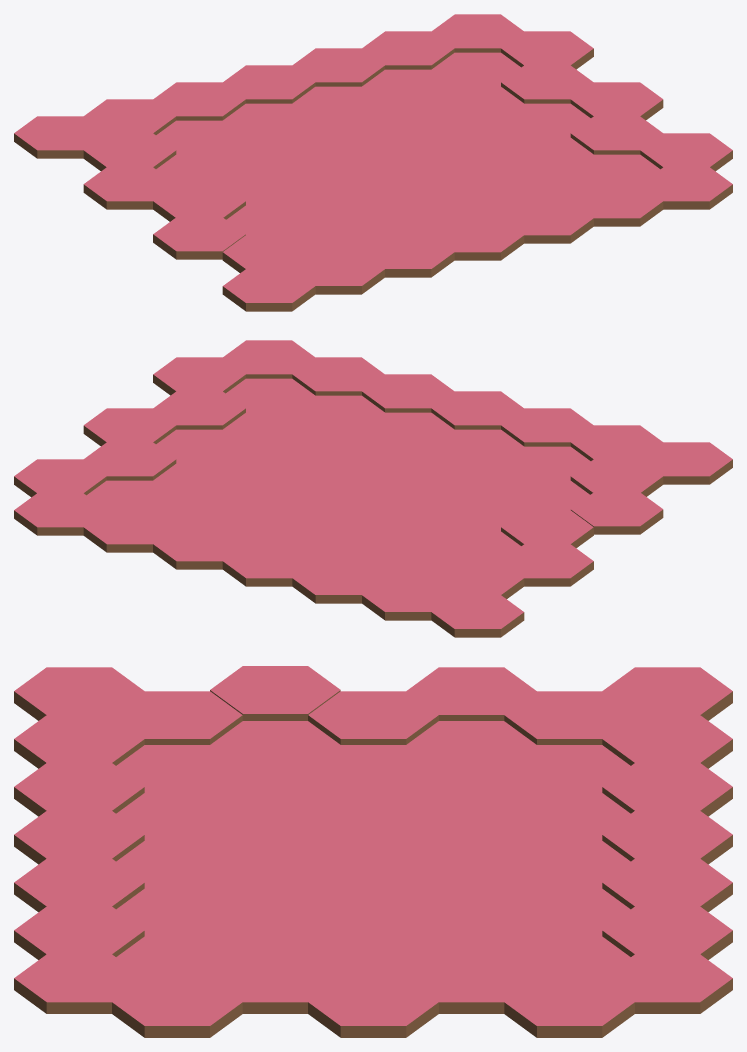
Rendered from Board.fbx.
The picture shows the model from 3 angles, top to bottom: view 1: azimuth 30°, elevation 25°; view 2: azimuth 150°, elevation 25°; view 3: azimuth 270°, elevation 25°; orthographic projection. The views are drawn at different scales.
Visible parts, largest first — view 1: Cylinder, Cylinder.003, Cylinder.022, Cylinder.001, Cylinder.007, Cylinder.020, Cylinder.021, Cylinder.023, Cylinder.005, Cylinder.019, Cylinder.017, Cylinder.011 (+37 smaller); view 2: Cylinder.007, Cylinder.003, Cylinder.010, Cylinder.005, Cylinder.008, Cylinder, Cylinder.009, Cylinder.011, Cylinder.012, Cylinder.013, Cylinder.015, Cylinder.017 (+37 smaller); view 3: Cylinder.014, Cylinder.018, Cylinder.016, Cylinder.013, Cylinder.019, Cylinder.015, Cylinder.017, Cylinder.004, Cylinder.002, Cylinder.006, Cylinder.011, Cylinder.012 (+37 smaller).
Part boxes in pixels (left/top/right/bottom): Cylinder: left=222, top=269, right=315, bottom=311; Cylinder.003: left=153, top=217, right=245, bottom=259; Cylinder.022: left=432, top=218, right=524, bottom=260; Cylinder.001: left=292, top=252, right=384, bottom=294; Cylinder.007: left=14, top=116, right=106, bottom=158; Cylinder.020: left=571, top=184, right=663, bottom=226; Cylinder.021: left=501, top=201, right=593, bottom=243; Cylinder.023: left=362, top=235, right=454, bottom=277; Cylinder.005: left=83, top=167, right=175, bottom=209; Cylinder.019: left=640, top=167, right=732, bottom=209; Cylinder.017: left=570, top=116, right=663, bottom=154; Cylinder.011: left=292, top=48, right=384, bottom=86; Cylinder.007: left=431, top=595, right=524, bottom=637; Cylinder.003: left=570, top=492, right=663, bottom=534; Cylinder.010: left=222, top=544, right=314, bottom=586; Cylinder.005: left=501, top=544, right=593, bottom=586; Cylinder.008: left=362, top=578, right=454, bottom=620; Cylinder: left=640, top=442, right=732, bottom=484; Cylinder.009: left=292, top=561, right=384, bottom=603; Cylinder.011: left=153, top=527, right=245, bottom=569; Cylinder.012: left=83, top=510, right=175, bottom=552; Cylinder.013: left=14, top=493, right=106, bottom=535; Cylinder.015: left=83, top=442, right=176, bottom=480; Cylinder.017: left=153, top=391, right=245, bottom=429; Cylinder.014: left=504, top=978, right=634, bottom=1037; Cylinder.018: left=112, top=978, right=242, bottom=1037; Cylinder.016: left=308, top=978, right=438, bottom=1037; Cylinder.013: left=602, top=954, right=732, bottom=1013; Cylinder.019: left=14, top=954, right=144, bottom=1013; Cylinder.015: left=406, top=954, right=536, bottom=1013; Cylinder.017: left=210, top=954, right=340, bottom=1013; Cylinder.004: left=308, top=691, right=438, bottom=744; Cylinder.002: left=112, top=691, right=242, bottom=744; Cylinder.006: left=504, top=691, right=634, bottom=744; Cylinder.011: left=602, top=858, right=732, bottom=912; Cylinder.012: left=602, top=906, right=732, bottom=959.
Size of the model in its own units: 1299 by 32.14 by 1100.
